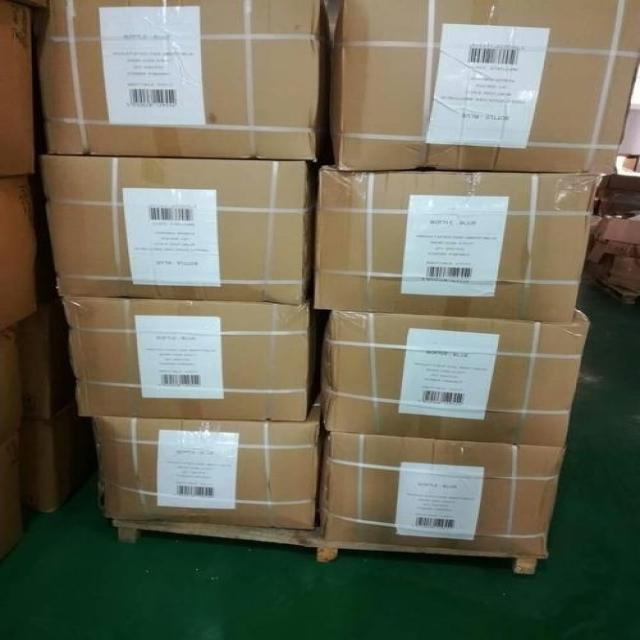box: (334, 0, 639, 175), (312, 154, 600, 324), (38, 1, 335, 161), (38, 155, 317, 305), (321, 306, 589, 447), (90, 392, 324, 530), (60, 299, 324, 421), (316, 431, 565, 555), (0, 176, 60, 329), (19, 299, 80, 419), (0, 0, 38, 177), (28, 417, 98, 512), (0, 418, 28, 566), (0, 319, 28, 433)
